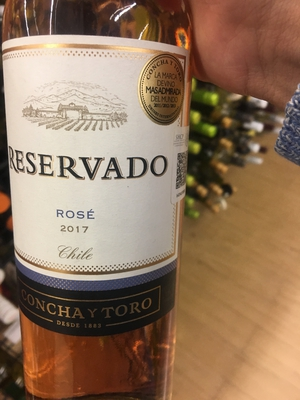reservado rose: (2, 3, 186, 394)
